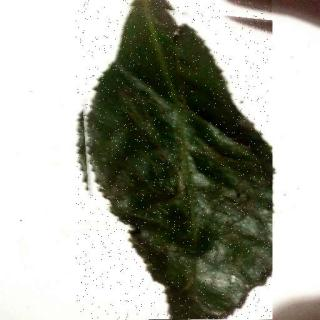Red Leaf Spot: (77, 1, 273, 320)
